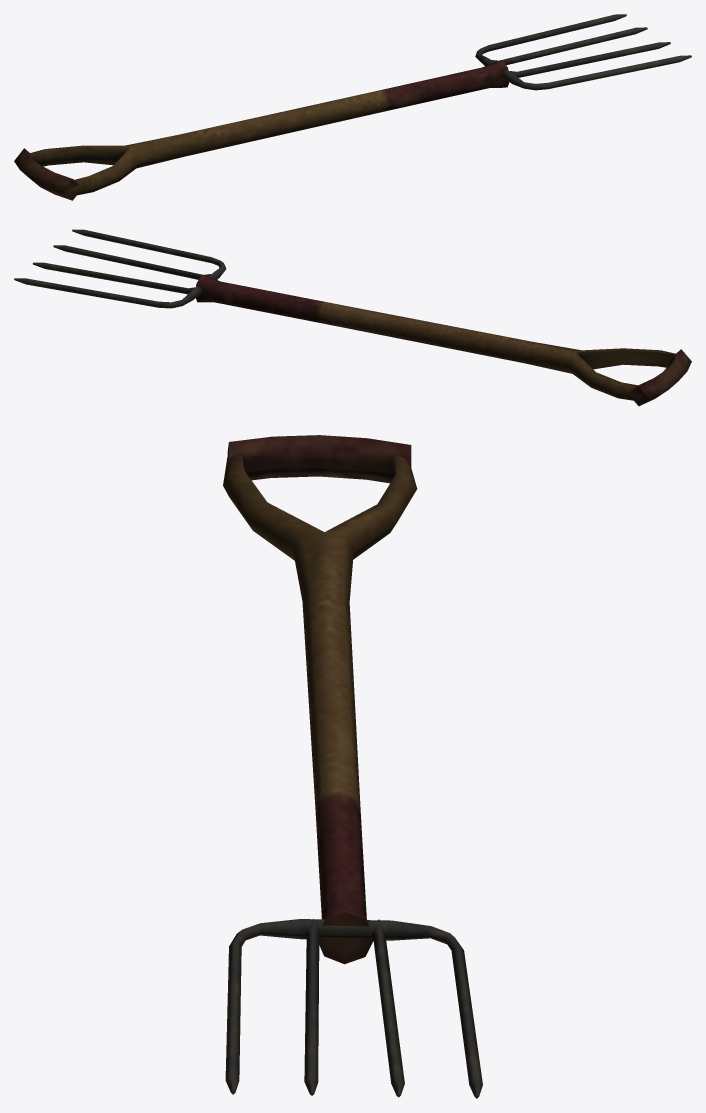
The model's file is Pitchfork.FBX.
3 views of the same model, one above another, from view 1: azimuth 30°, elevation 25°; view 2: azimuth 150°, elevation 25°; view 3: azimuth 270°, elevation 25° (orthographic). The views are drawn at different scales.
Visible parts, largest first — view 1: Pitchfork; view 2: Pitchfork; view 3: Pitchfork.
Part boxes in pixels (left/top/right/bottom): Pitchfork: left=14, top=14, right=691, bottom=200; Pitchfork: left=14, top=229, right=691, bottom=406; Pitchfork: left=223, top=435, right=482, bottom=1098.
Bounding box in the file's own units: 105 × 6.65 × 18.84.
